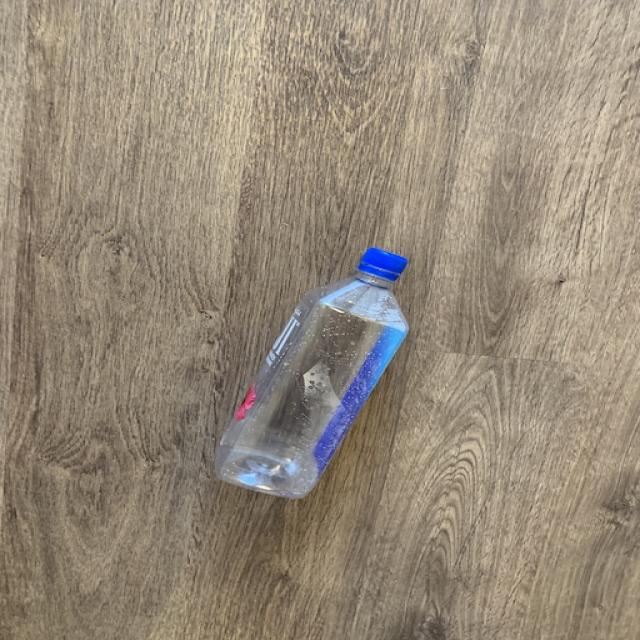Waste: (216, 248, 409, 500)
